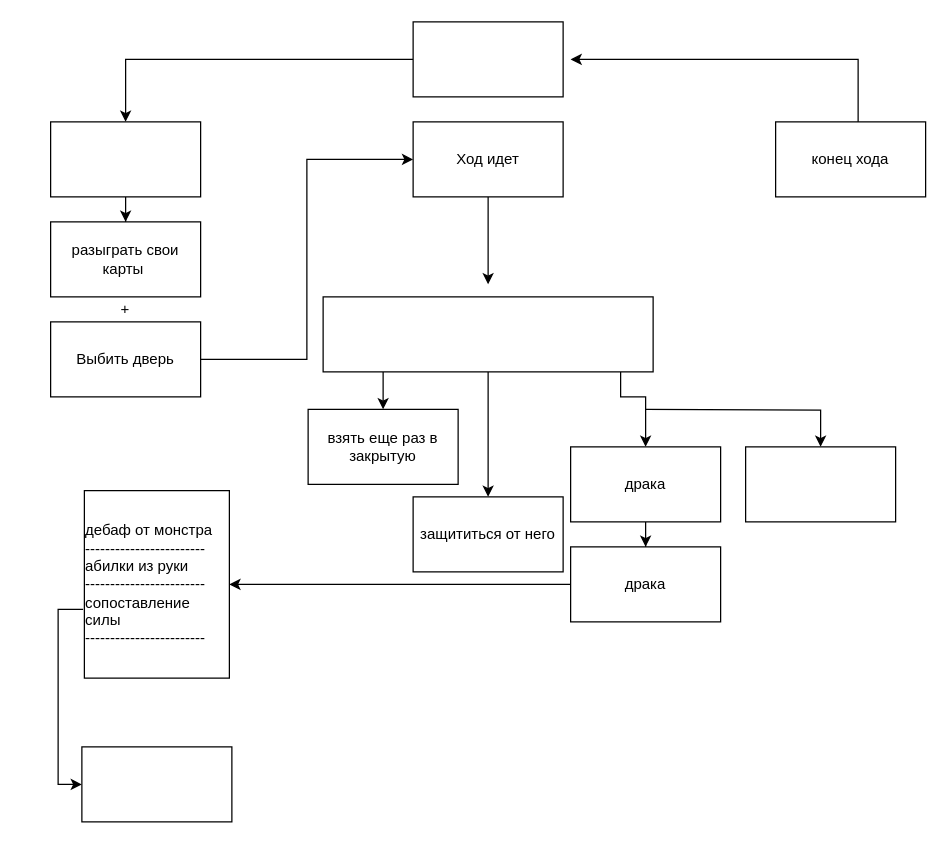
This 948x844 diagram has some shape labels left out. The centre of each missing label's shape, as x and y in pixels:
"взять карту \ получить проклятье \ монстр" belongs at [487,334].
"Начало хода" belongs at [125,159].
"смывка" belongs at [820,484].
"Ход" belongs at [487,59].
